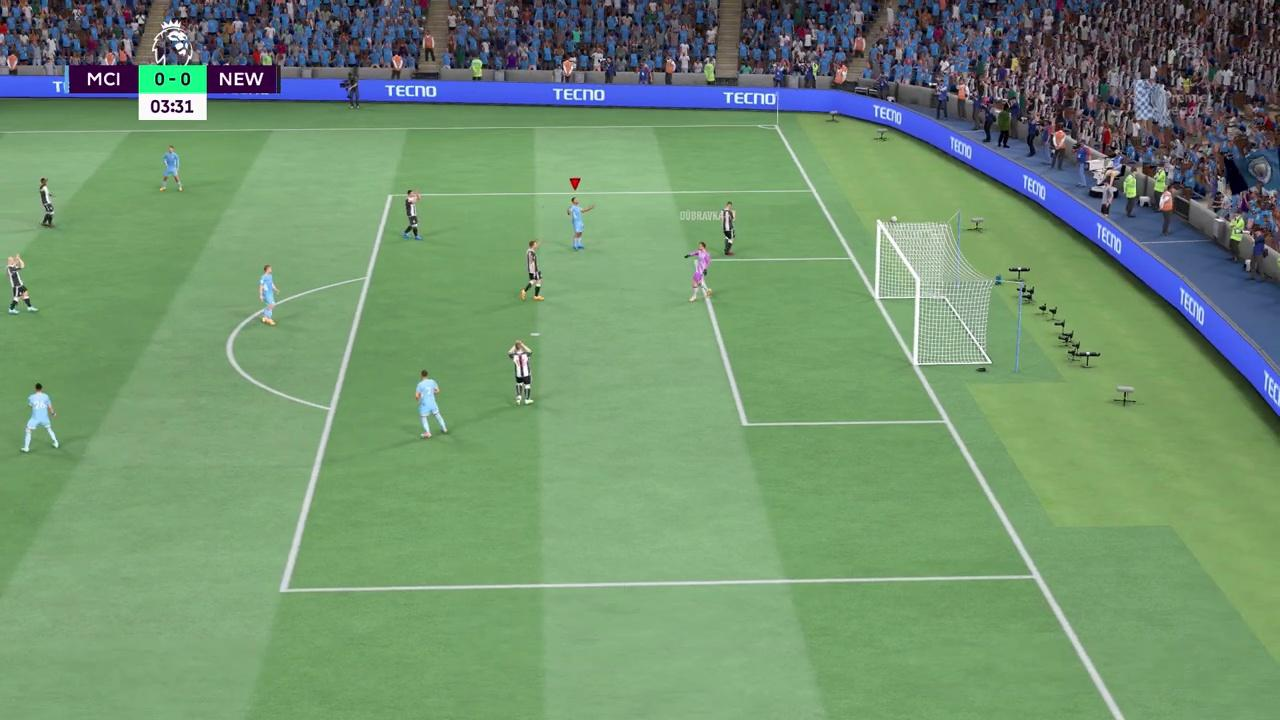scoreboard: (67, 63, 279, 94)
timestamp: (137, 92, 208, 118)
